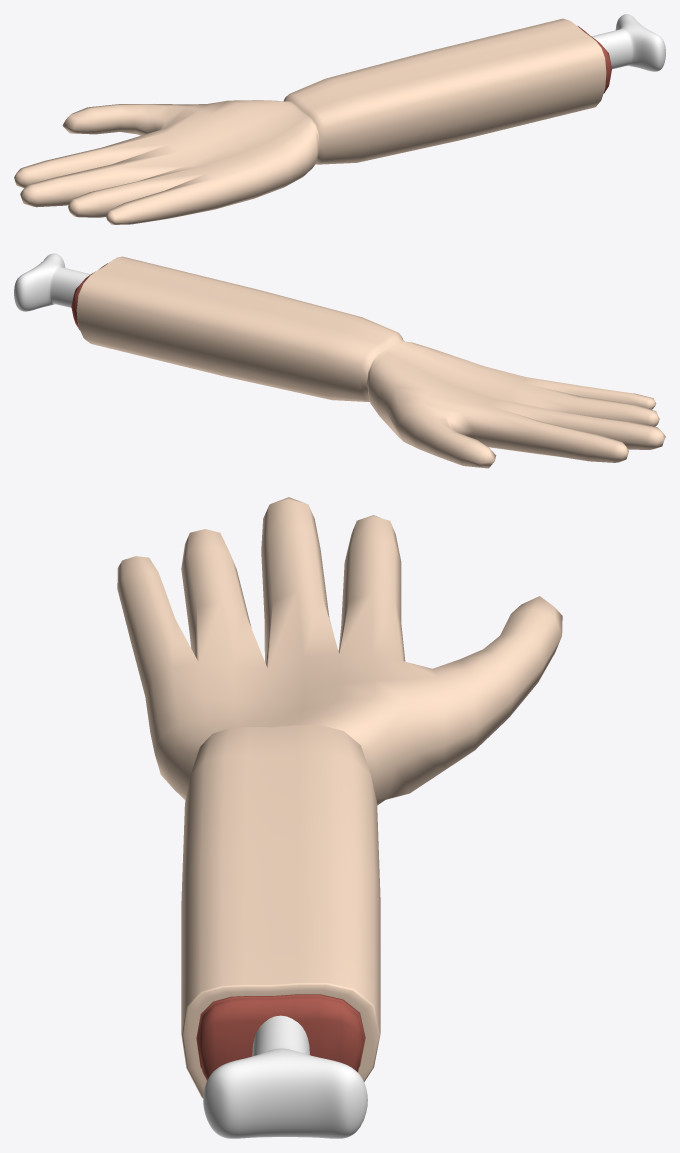
File: Hand.fbx
3 renders of one model, top to bottom at view 1: azimuth 30°, elevation 25°; view 2: azimuth 150°, elevation 25°; view 3: azimuth 270°, elevation 25°, orthographic. The views are drawn at different scales.
Visible parts, largest first — view 1: pCube3; view 2: pCube3; view 3: pCube3.
Part boxes in pixels (x1,y1,x2,y2): pCube3: [14, 14, 665, 224]; pCube3: [14, 253, 665, 468]; pCube3: [117, 497, 562, 1138].
Bounding box in the file's own units: 17.68 × 1.91 × 5.42.
